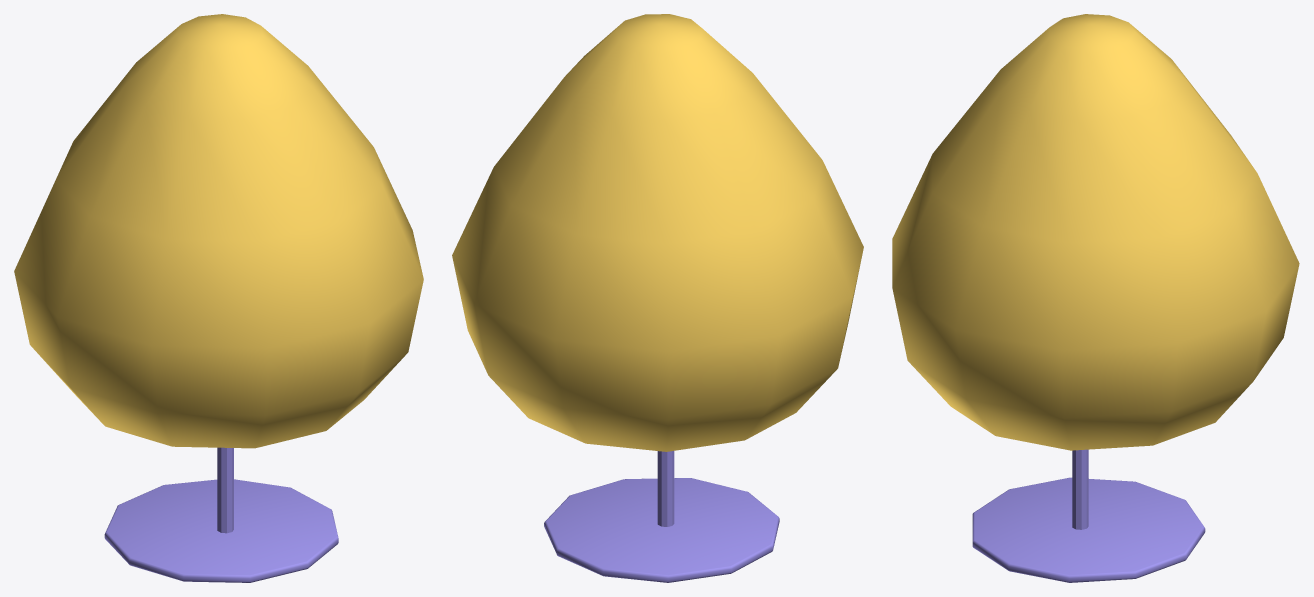
The model's file is Tree_Yellow.fbx.
The picture shows the model from 3 angles, left to right: view 1: azimuth 30°, elevation 25°; view 2: azimuth 150°, elevation 25°; view 3: azimuth 270°, elevation 25°; orthographic projection.
Visible parts, largest first — view 1: Sphere.020, Circle, Cylinder; view 2: Sphere.020, Circle, Cylinder; view 3: Sphere.020, Circle, Cylinder.
Boxes of the visible parts, left/top/right/bottom form: Sphere.020: left=14, top=14, right=423, bottom=448; Circle: left=104, top=479, right=338, bottom=582; Cylinder: left=217, top=447, right=233, bottom=533; Sphere.020: left=452, top=14, right=863, bottom=451; Circle: left=544, top=478, right=779, bottom=582; Cylinder: left=657, top=451, right=674, bottom=526; Sphere.020: left=892, top=14, right=1299, bottom=450; Circle: left=972, top=477, right=1205, bottom=582; Cylinder: left=1072, top=449, right=1088, bottom=529.
Bounding box in the file's own units: 41.39 × 56.63 × 40.97.
